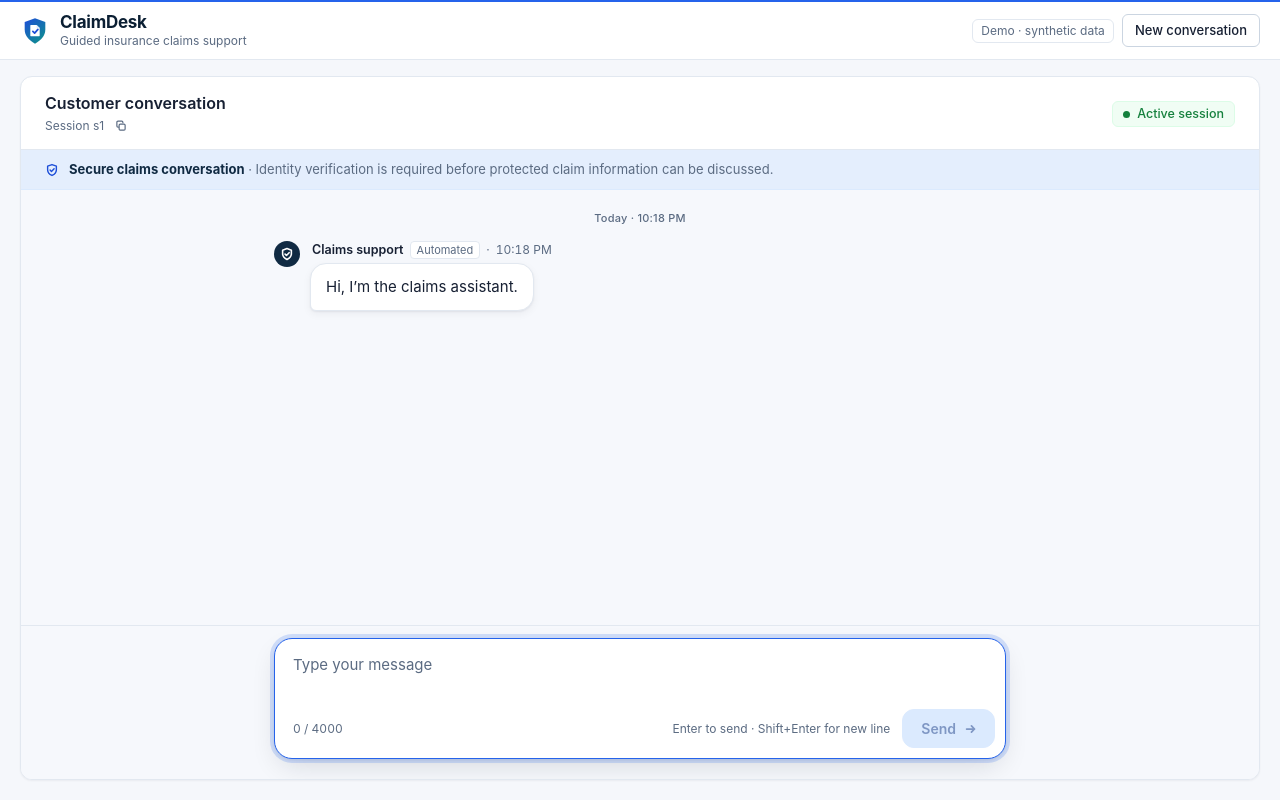
Test case: availability › stays hidden, and stops asking, when the server has no inspector
Expected: the text "Hi, I’m the claims assistant." is shown, [326,275,518,299]
Type "hello" into the text box labelled "your message" at x=640, y=671, box [275,639,1005,703]
Then press Enter
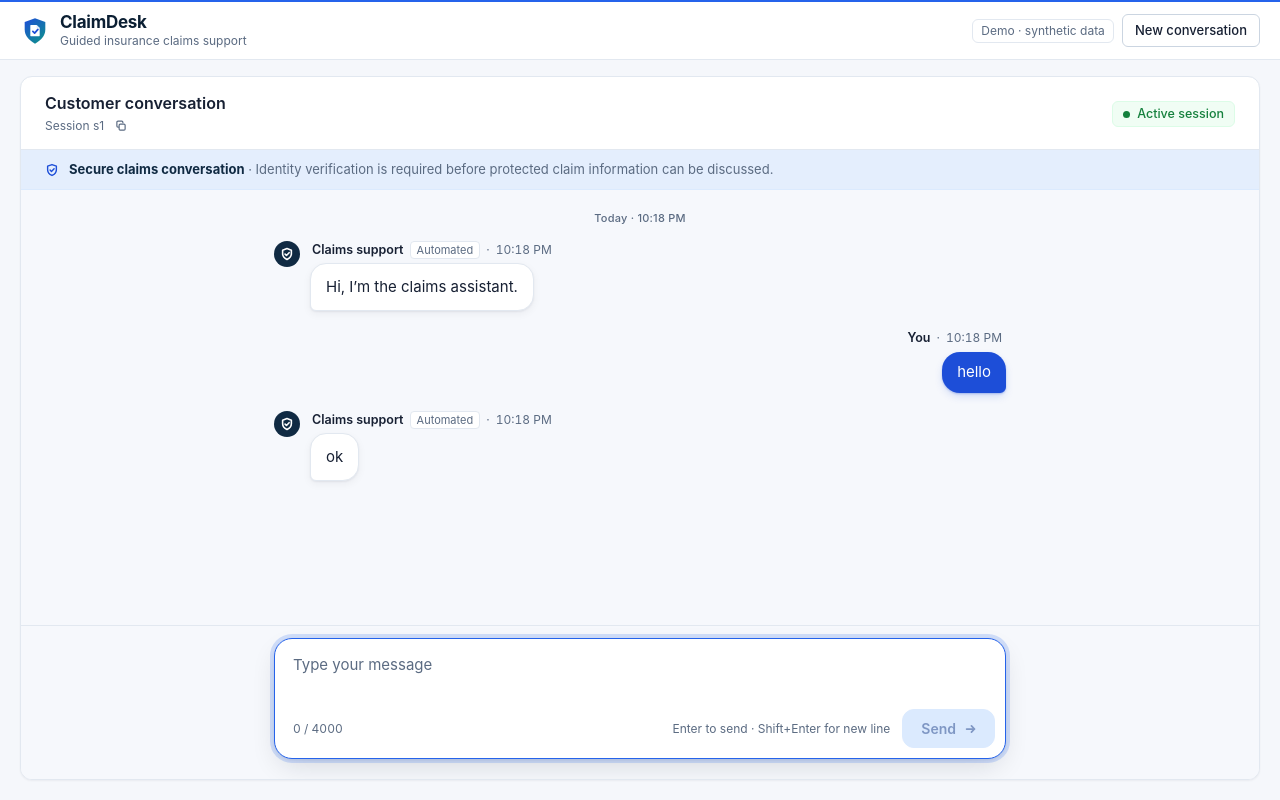
Now the text "ok" is shown, box [326,445,343,469]
